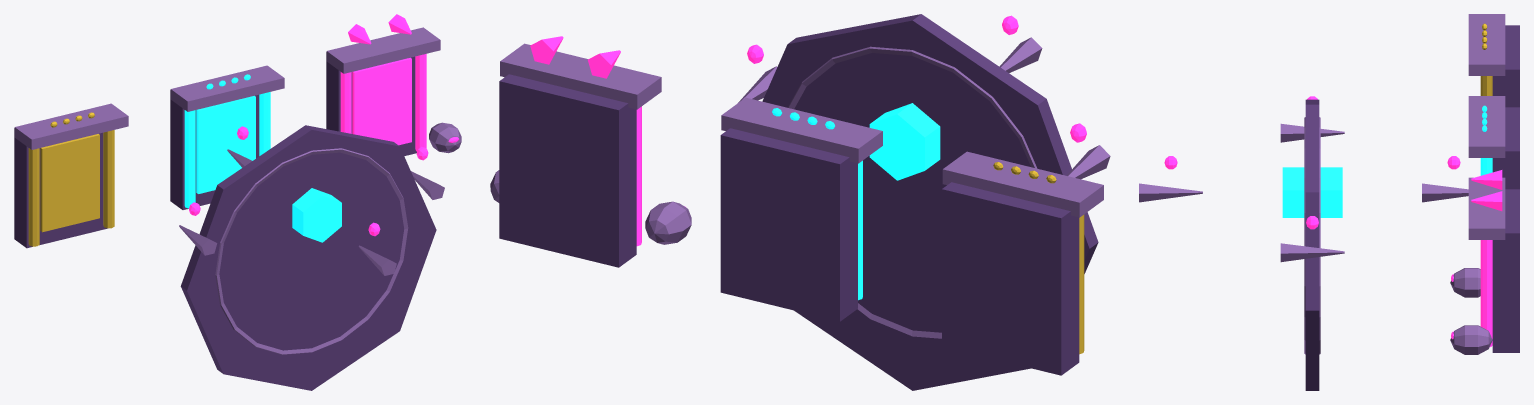
File: grieta_altar_r3.glb
3 renders of one model, left to right at view 1: azimuth 30°, elevation 25°; view 2: azimuth 150°, elevation 25°; view 3: azimuth 270°, elevation 25°, orthographic. The views are drawn at different scales.
Visible parts, largest first — view 1: obsidiana violeta, piedra tallada, cristal cian, oro, cristal rosa; view 2: obsidiana violeta, piedra tallada, cristal cian, cristal rosa, oro; view 3: piedra tallada, obsidiana violeta, cristal cian, cristal rosa, oro.
Part boxes in pixels (x1,y1,x2,y2): obsidiana violeta: (14, 52, 436, 390); piedra tallada: (14, 27, 461, 354); cristal cian: (184, 74, 341, 242); oro: (28, 112, 114, 246); cristal rosa: (189, 14, 458, 236); obsidiana violeta: (499, 14, 1098, 390); piedra tallada: (490, 37, 1110, 338); cristal cian: (772, 103, 940, 300); cristal rosa: (530, 15, 1086, 246); oro: (993, 162, 1084, 354); piedra tallada: (1139, 14, 1505, 354); obsidiana violeta: (1305, 25, 1519, 390); cristal cian: (1282, 105, 1492, 217); cristal rosa: (1164, 96, 1502, 346); oro: (1480, 23, 1492, 95).
Bounding box in the file's own units: 13.73 × 8.18 × 9.82.
